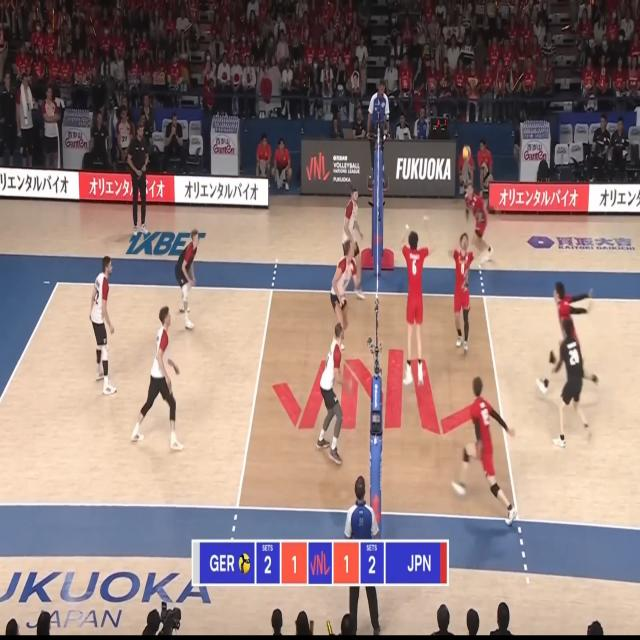ball: (462, 147, 471, 161)
